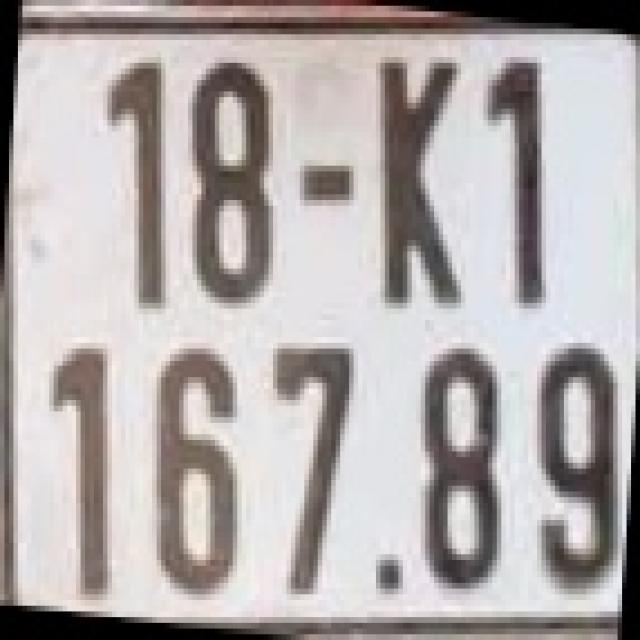1: (49, 337, 121, 594), (483, 52, 555, 308), (103, 52, 174, 308)
6: (148, 343, 242, 594)
7: (268, 337, 354, 594)
8: (188, 51, 277, 303), (420, 337, 506, 589)
9: (532, 343, 618, 588)
K: (372, 40, 466, 309)
